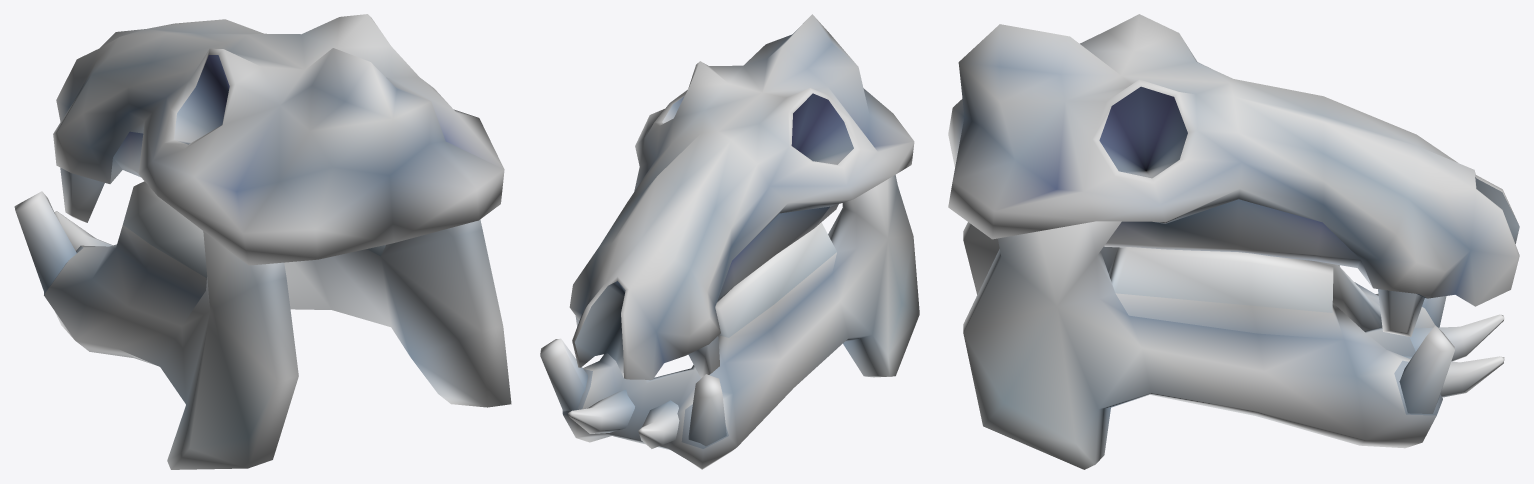
The model's file is HeadPieces.gltf.
3 views of the same model, side by side, from view 1: azimuth 30°, elevation 25°; view 2: azimuth 150°, elevation 25°; view 3: azimuth 270°, elevation 25° (orthographic). The views are drawn at different scales.
Visible parts, largest first — view 1: HeadPiece1, HeadPiece2; view 2: HeadPiece1, HeadPiece2; view 3: HeadPiece1, HeadPiece2.
Part boxes in pixels (x1=…): HeadPiece1: x1=53, y1=14, x2=504, y2=265; HeadPiece2: x1=14, y1=181, x2=511, y2=469; HeadPiece1: x1=569, y1=14, x2=914, y2=379; HeadPiece2: x1=540, y1=175, x2=919, y2=469; HeadPiece1: x1=948, y1=14, x2=1519, y2=336; HeadPiece2: x1=963, y1=221, x2=1504, y2=469.
Bounding box in the file's own units: 1.51 × 1.88 × 2.49.
